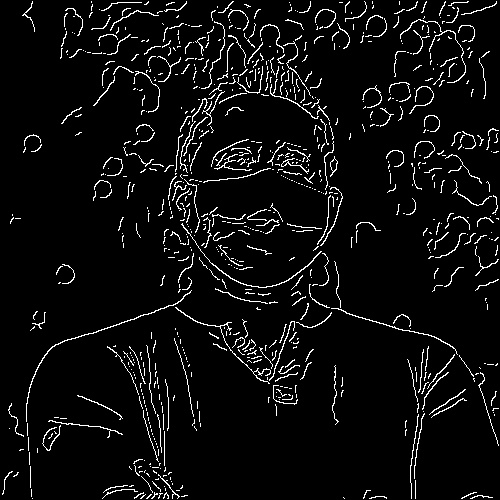mask: (193, 179, 335, 284)
